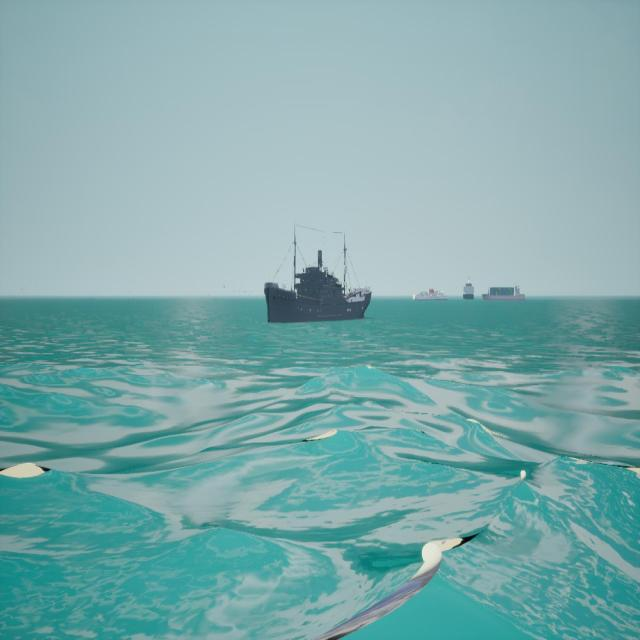fishing ship: (264, 227, 372, 324)
